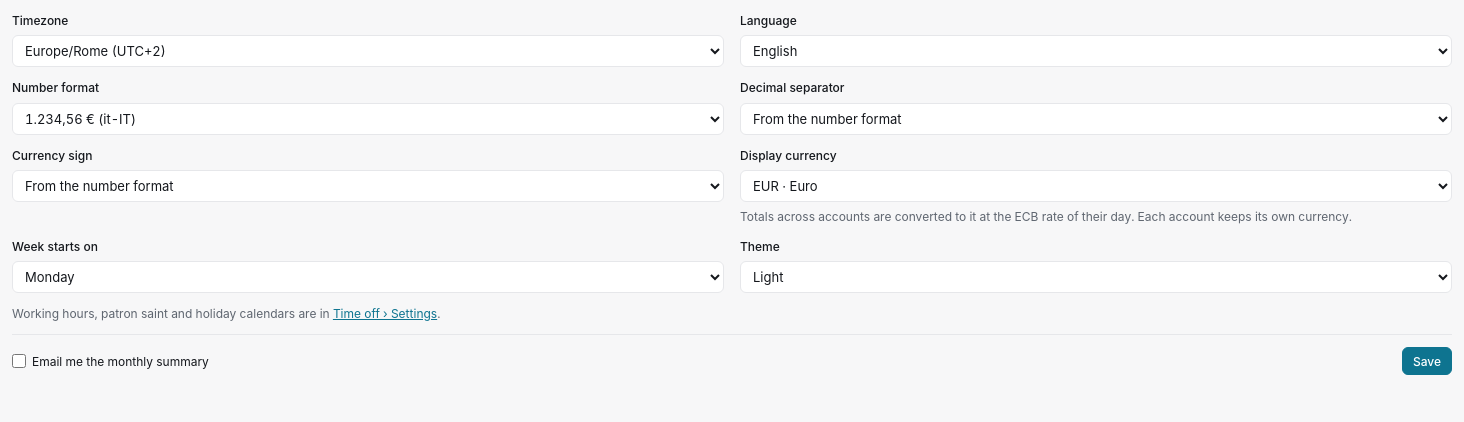
Test: PreferencesForm › shows a catalogued error instead of crashing when the action refuses to save
This screenshot has width=1464, height=422.
What coordinates should you click on to do the following:
click the button "Save"
I would click on:
 (1427, 361)
Its box is [1402,347,1452,375].
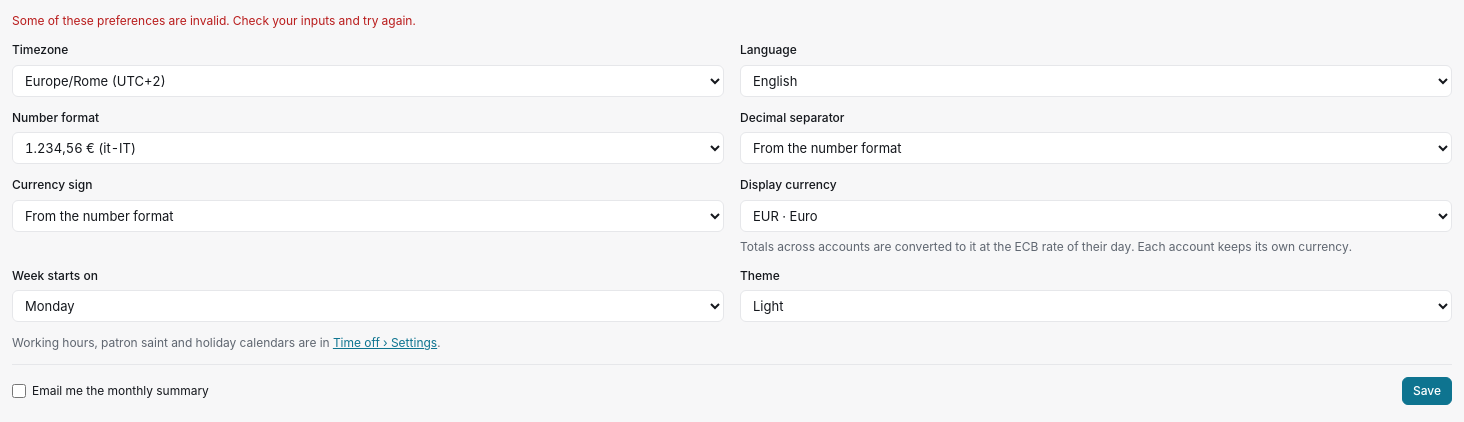
Expected: the message reads "Some of these preferences are invalid. Check your inputs and try again.", [12,13,416,28]
